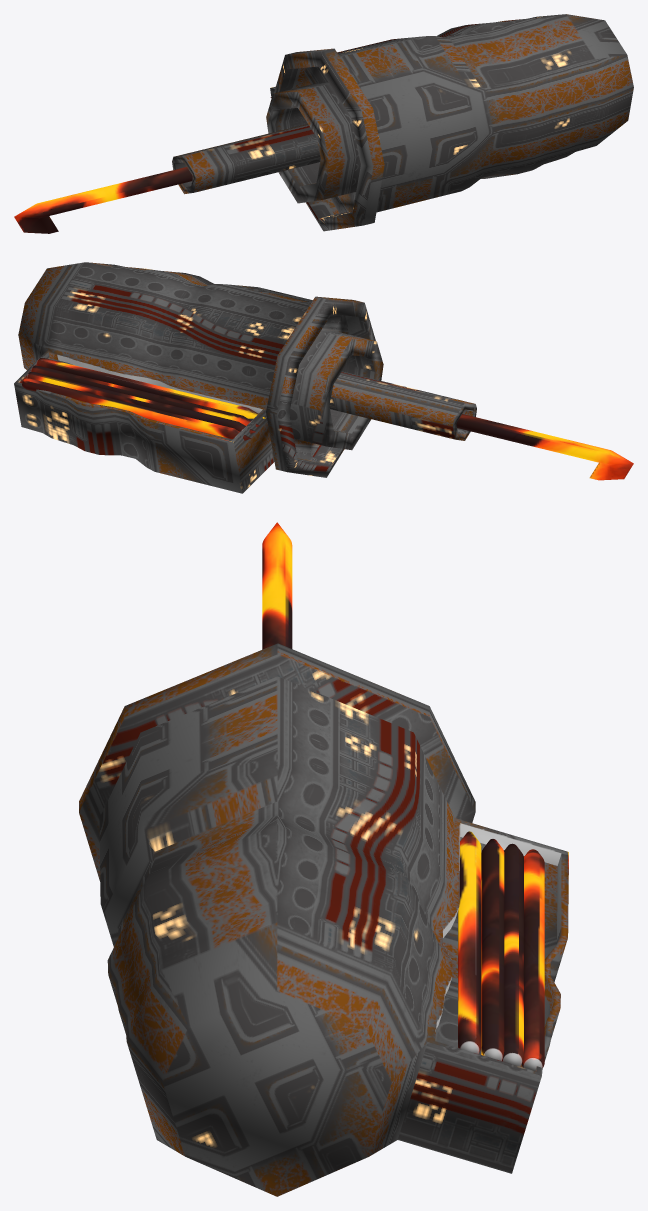
The model's file is Harpoon.fbx.
3 views of the same model, one above another, from view 1: azimuth 30°, elevation 25°; view 2: azimuth 150°, elevation 25°; view 3: azimuth 270°, elevation 25° (orthographic). The views are drawn at different scales.
Parts seen in each view (by area): view 1: Plane.014, Plane.016; view 2: Plane.014, Plane.016; view 3: Plane.014, Plane.016.
Boxes of the visible parts, <box> form: Plane.014: <box>172,14,633,231</box>; Plane.016: <box>14,167,192,233</box>; Plane.014: <box>14,262,476,493</box>; Plane.016: <box>456,414,633,480</box>; Plane.014: <box>79,643,568,1196</box>; Plane.016: <box>262,522,292,649</box>.
Bounding box in the file's own units: 266 × 77.56 × 96.35.
